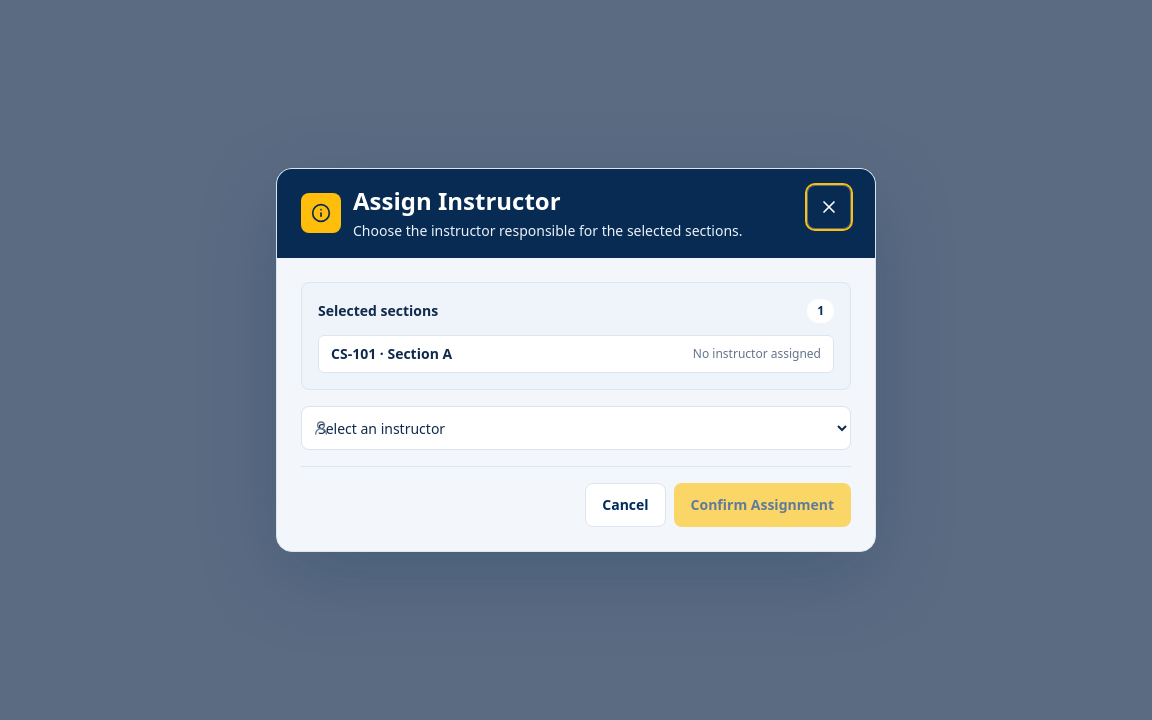
Test: AssignInstructorModal › shows backend assignment errors
This screenshot has width=1152, height=720.
Step 1. Select "Rae Santos · INS-14 · rae@example.test" in the dropdown named "Instructor" → (576, 428), box [301,406,851,450]
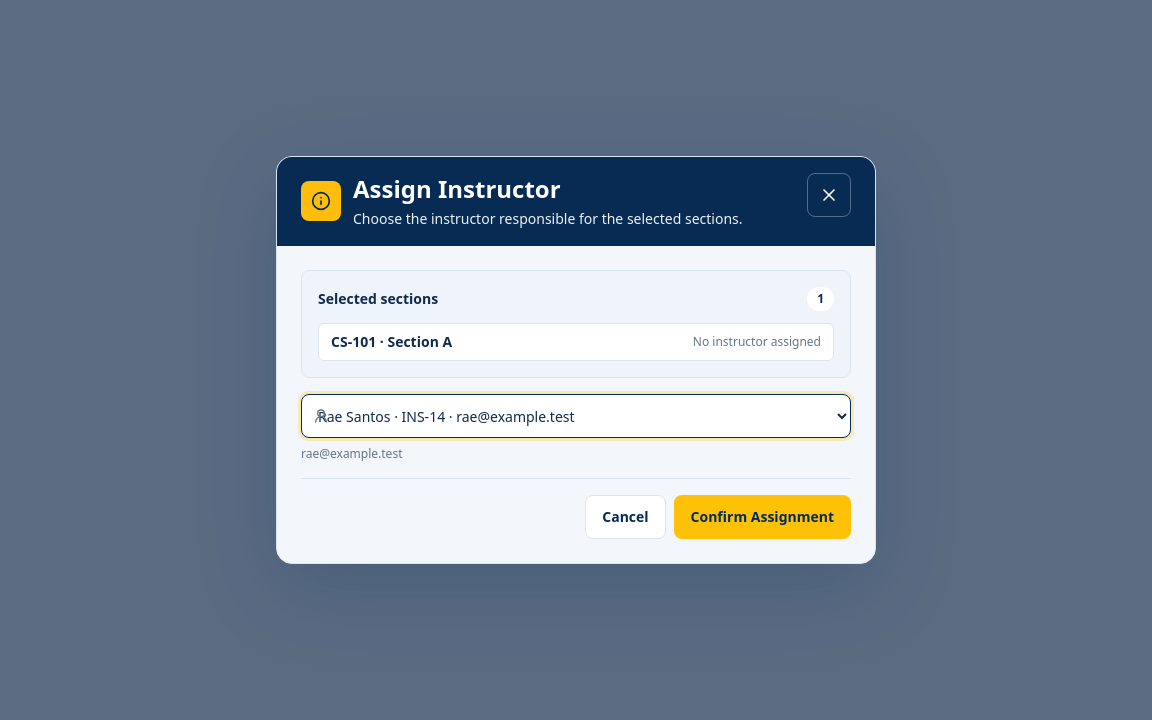
Step 2. Click the button "Confirm Assignment" → (762, 517), box [674,495,851,539]
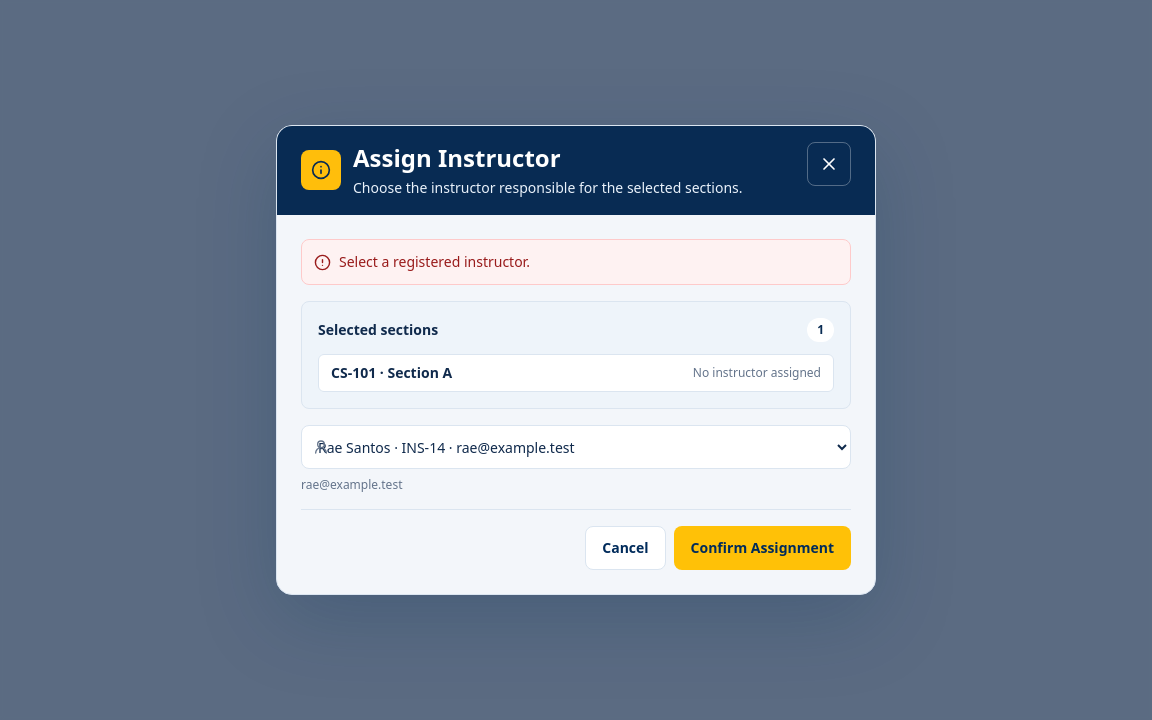
Check: the button "Confirm Assignment" is enabled, box [674,526,851,570]
Check: the message reads "Select a registered instructor.", box [339,252,530,271]
